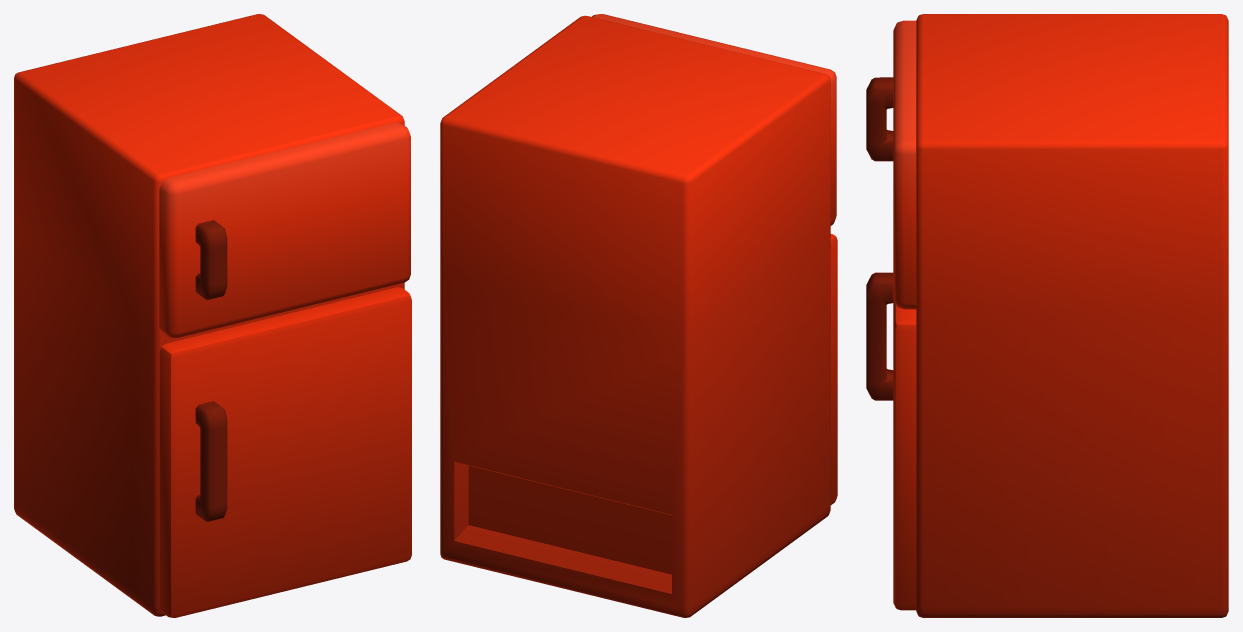
Rendered from Refrigerator_01_C04.fbx.
3 renders of one model, left to right at view 1: azimuth 30°, elevation 25°; view 2: azimuth 150°, elevation 25°; view 3: azimuth 270°, elevation 25°, orthographic. The views are drawn at different scales.
Parts seen in each view (by area): view 1: Refrigerator_01_C04, Refrigerator_01_C04_Door_L, Refrigerator_01_C04_Door_U; view 2: Refrigerator_01_C04, Refrigerator_01_C04_Door_U, Refrigerator_01_C04_Door_L; view 3: Refrigerator_01_C04, Refrigerator_01_C04_Door_L, Refrigerator_01_C04_Door_U.
Boxes of the visible parts, box(x1,y1,x2,y2) form: Refrigerator_01_C04: box(14, 14, 404, 616); Refrigerator_01_C04_Door_L: box(159, 287, 411, 617); Refrigerator_01_C04_Door_U: box(159, 122, 410, 338); Refrigerator_01_C04: box(440, 15, 830, 617); Refrigerator_01_C04_Door_U: box(591, 14, 836, 225); Refrigerator_01_C04_Door_L: box(830, 234, 837, 504); Refrigerator_01_C04: box(916, 14, 1228, 617); Refrigerator_01_C04_Door_L: box(866, 272, 916, 610); Refrigerator_01_C04_Door_U: box(866, 20, 916, 309).
Size of the model in its own units: 100 by 169 by 116.
